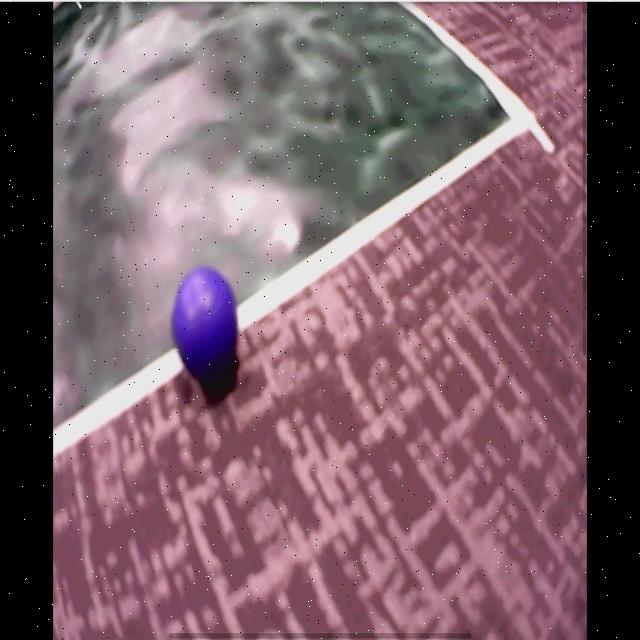ball: (171, 270, 237, 368)
